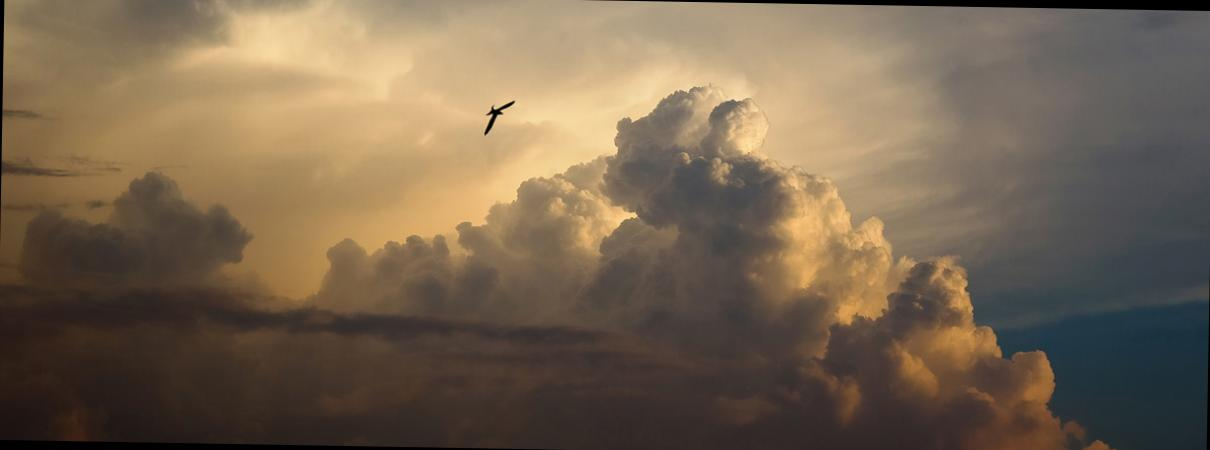bird: (472, 88, 526, 142)
